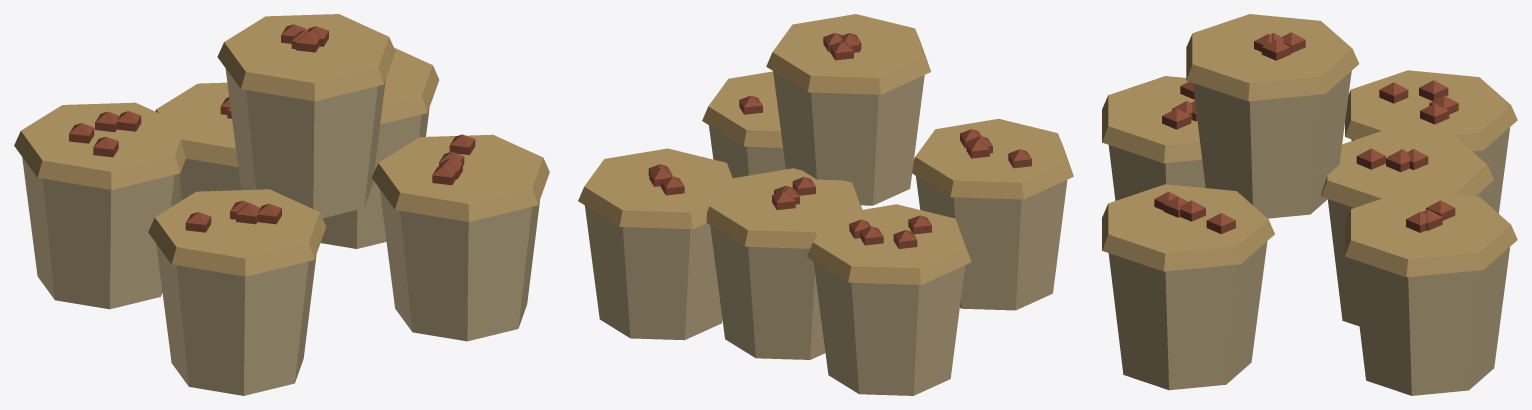
The model's file is pile_beans_3.glb.
The picture shows the model from 3 angles, left to right: view 1: azimuth 30°, elevation 25°; view 2: azimuth 150°, elevation 25°; view 3: azimuth 270°, elevation 25°; orthographic projection. The views are drawn at different scales.
Visible parts, largest first — view 1: pile_beans_3; view 2: pile_beans_3; view 3: pile_beans_3.
Boxes of the visible parts, box(x1,y1,x2,y2) form: pile_beans_3: box(14, 14, 549, 395); pile_beans_3: box(578, 14, 1073, 395); pile_beans_3: box(1102, 14, 1517, 395).
Bounding box in the file's own units: 1.37 × 0.9 × 1.23.
